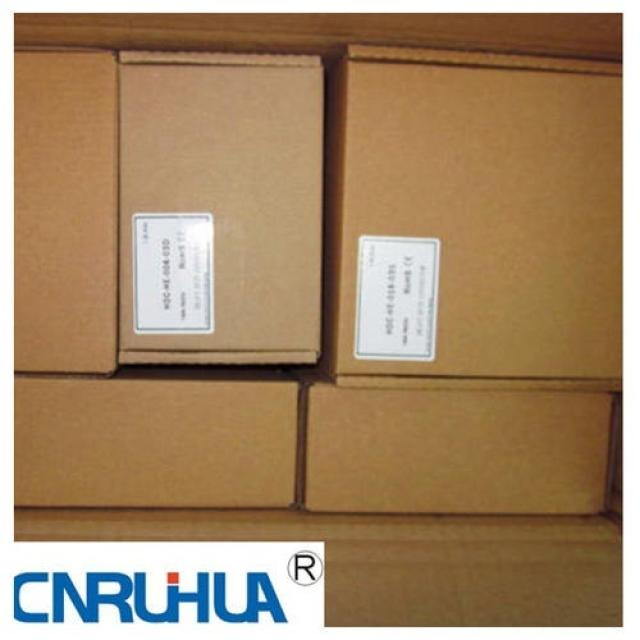box: (321, 45, 622, 392), (116, 51, 324, 366), (298, 372, 622, 515), (14, 380, 302, 508), (14, 44, 116, 370)
